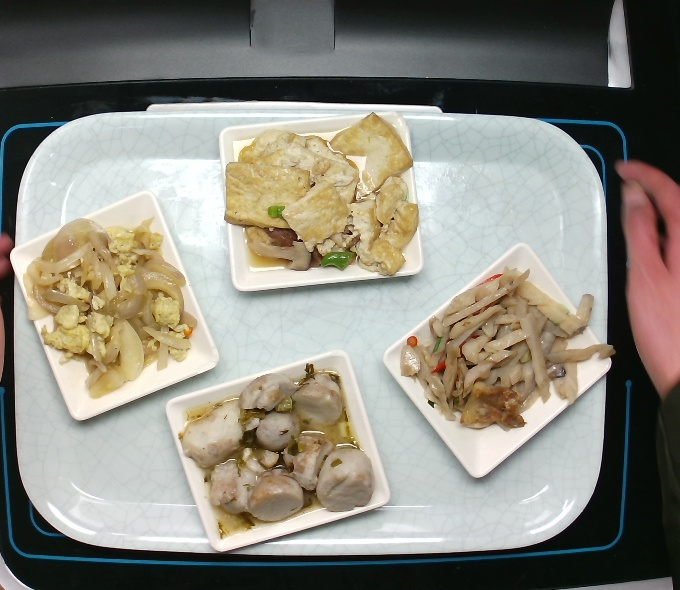wcq-JiaChangDouFu: (221, 112, 424, 276)
wcq-QingChaoOuPian: (388, 270, 621, 433)
wcq-YangCongChaoDan: (24, 215, 195, 395)
wcq-YangYu: (177, 370, 380, 527)
